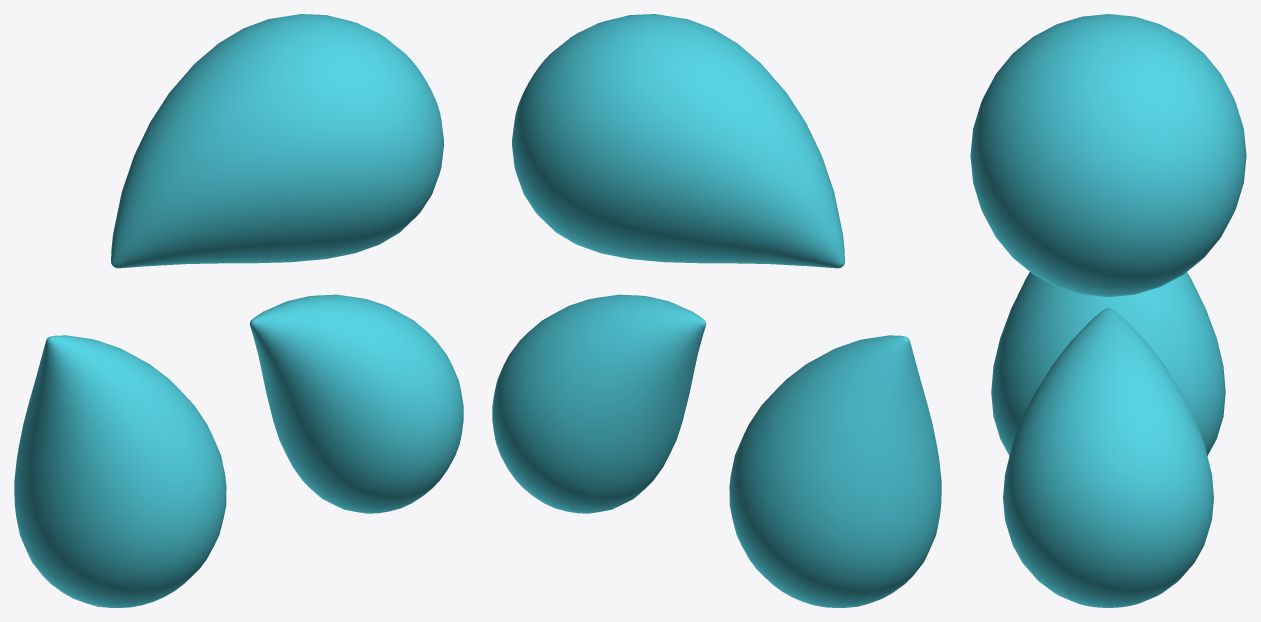
Rendered from Sweat_Droplets.gltf.
3 renders of one model, left to right at view 1: azimuth 30°, elevation 25°; view 2: azimuth 150°, elevation 25°; view 3: azimuth 270°, elevation 25°, orthographic. The views are drawn at different scales.
Visible parts, largest first — view 1: Sphere.375; view 2: Sphere.375; view 3: Sphere.375.
Boxes of the visible parts, x1,y1,x2,y2 form: Sphere.375: (14,14,463,607); Sphere.375: (492,14,941,607); Sphere.375: (970,14,1246,607).
Size of the model in its own units: 1.4 by 1.67 by 0.7362.
1 material, 1 textured.
